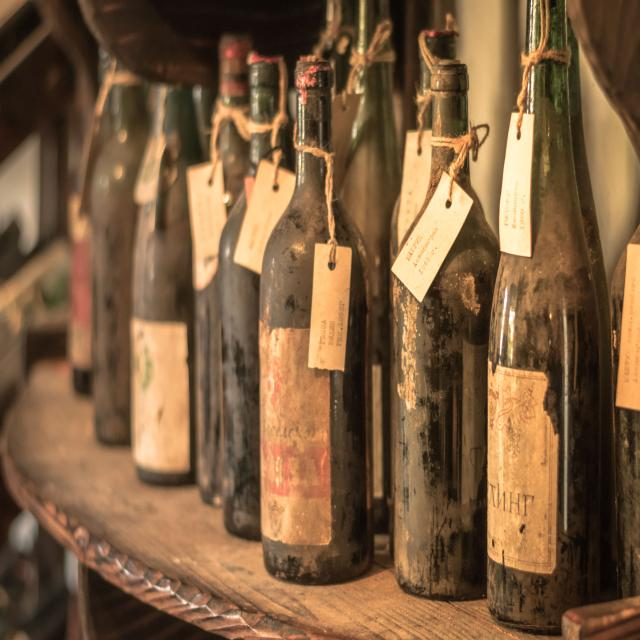Bottle: (488, 60, 600, 633), (260, 150, 373, 584), (392, 156, 499, 599), (567, 20, 616, 596), (341, 63, 401, 533), (131, 86, 201, 484), (91, 85, 148, 444), (217, 192, 260, 540), (69, 117, 110, 394), (195, 271, 223, 505), (614, 407, 639, 598), (69, 195, 92, 395), (315, 0, 358, 94), (219, 35, 252, 117), (390, 317, 397, 555), (194, 86, 216, 159), (391, 196, 404, 264)
